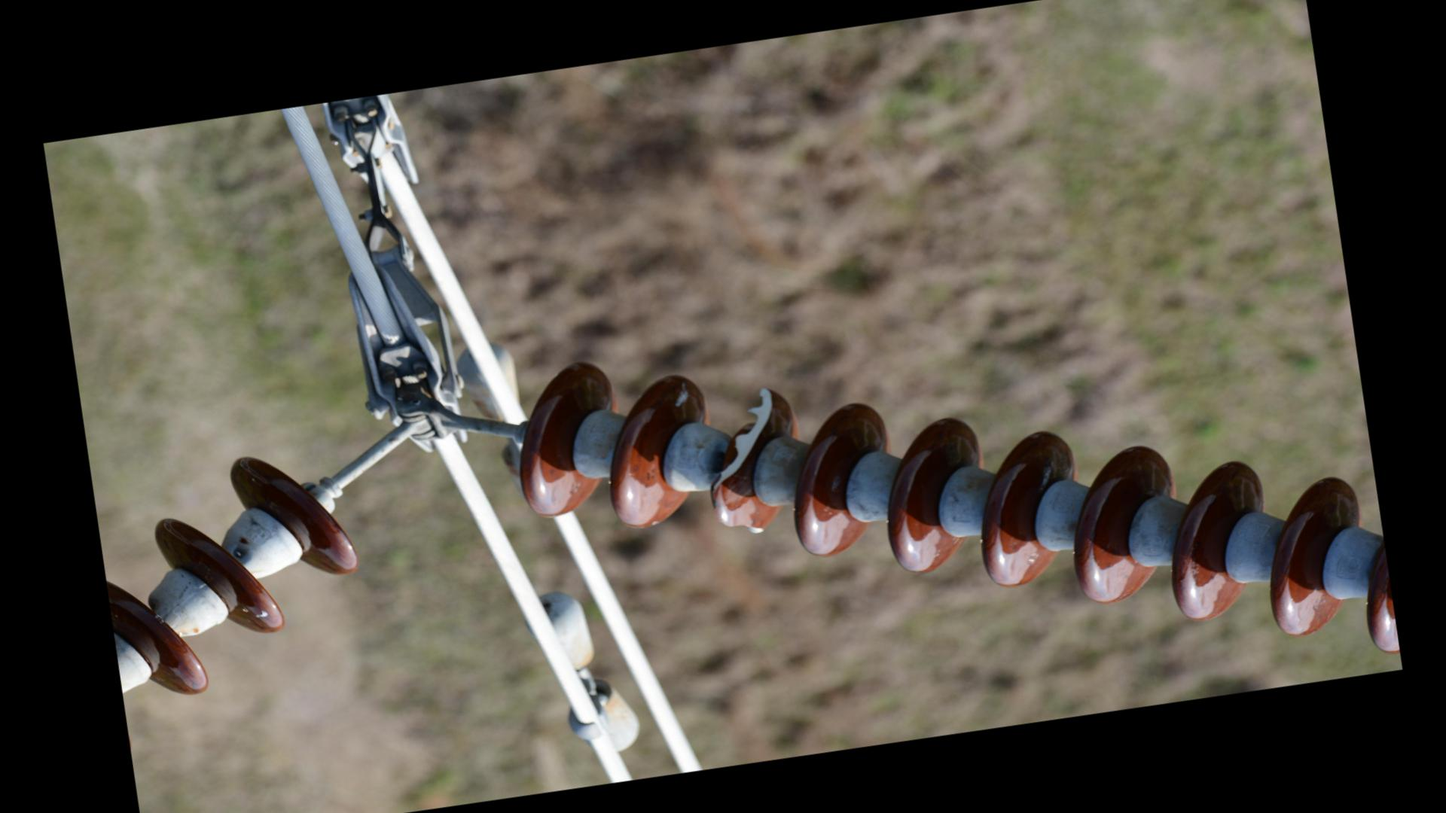damper: (514, 576, 648, 769)
